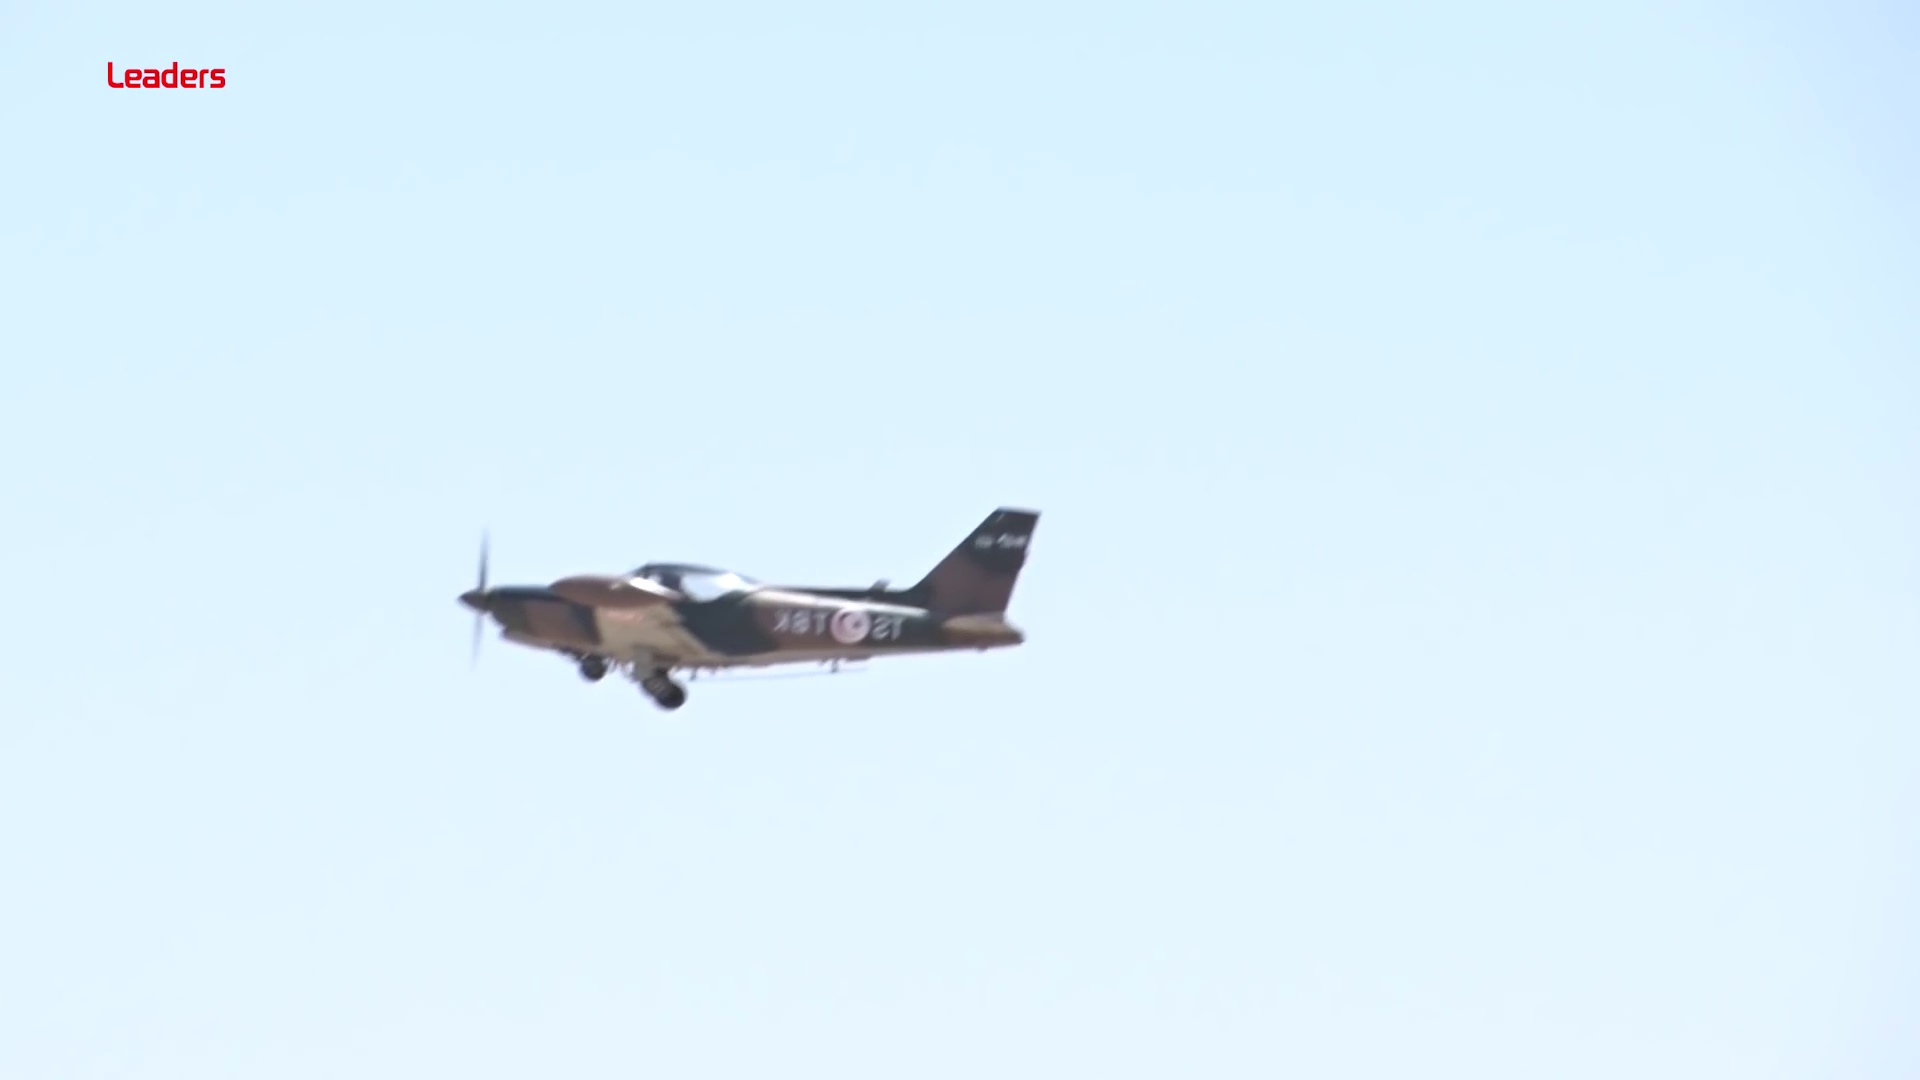Airplane: (439, 500, 1040, 705)
